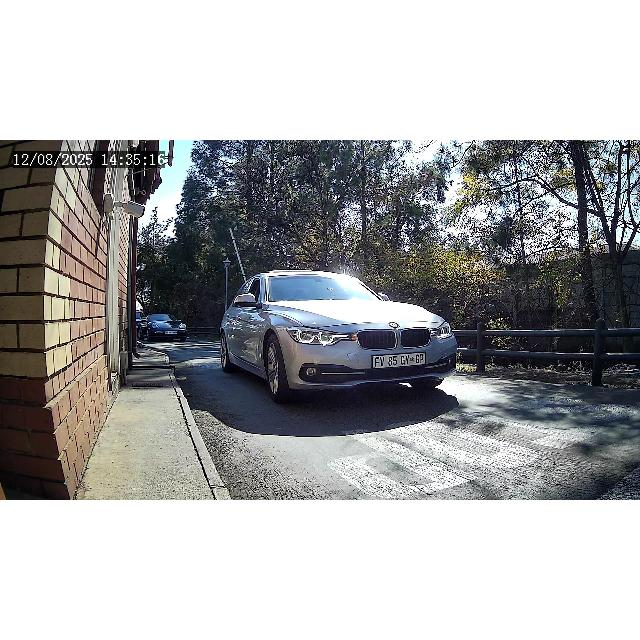car: (218, 270, 460, 404), (136, 312, 190, 342)
plate: (373, 353, 427, 367)
